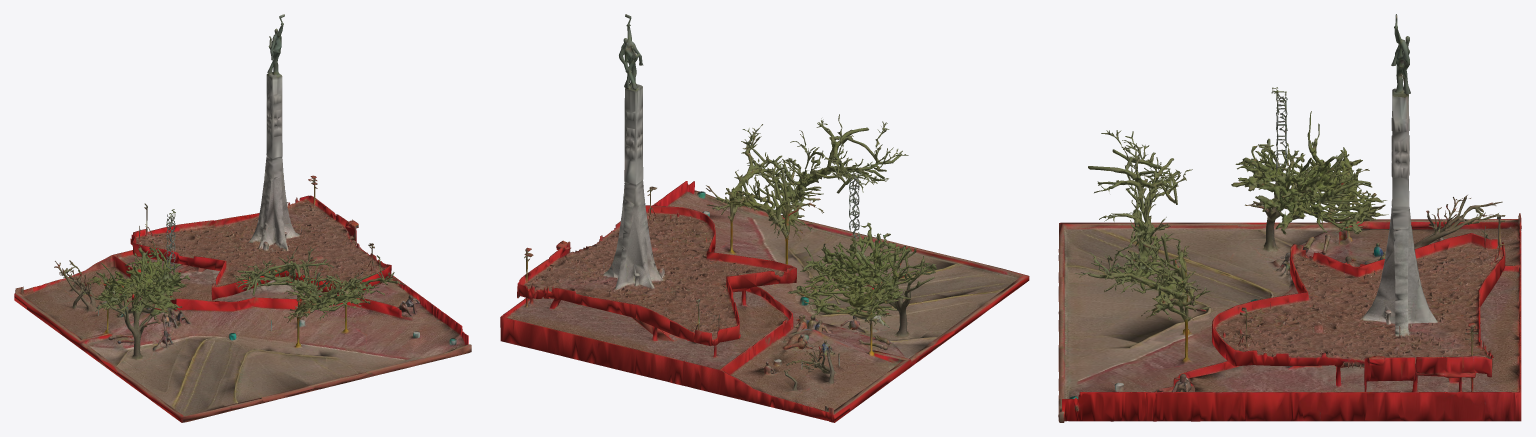
File: etoile-rouge.glb
3 views of the same model, side by side, from view 1: azimuth 30°, elevation 25°; view 2: azimuth 150°, elevation 25°; view 3: azimuth 270°, elevation 25° (orthographic). The views are drawn at different scales.
Visible parts, largest first — view 1: mesh_node; view 2: mesh_node; view 3: mesh_node.
Boxes of the visible parts, x1=… form: mesh_node: x1=14, y1=14, x2=471, y2=422; mesh_node: x1=500, y1=14, x2=1029, y2=422; mesh_node: x1=1058, y1=14, x2=1521, y2=422.
Size of the model in its own units: 1.9 by 1.65 by 1.9.
Materials: 1 (1 with a texture image).
